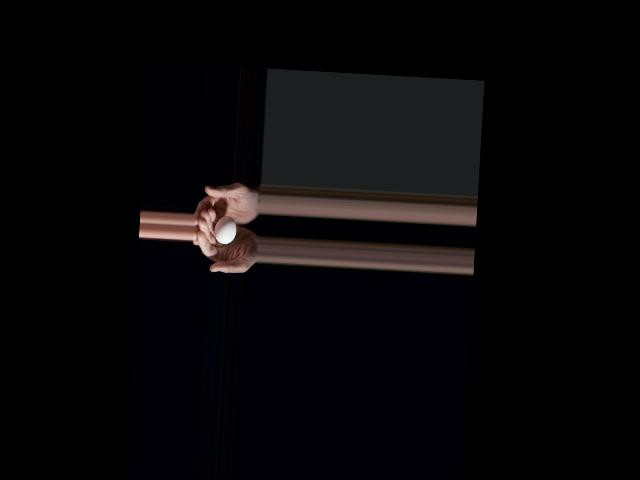egg: (213, 215, 237, 245)
